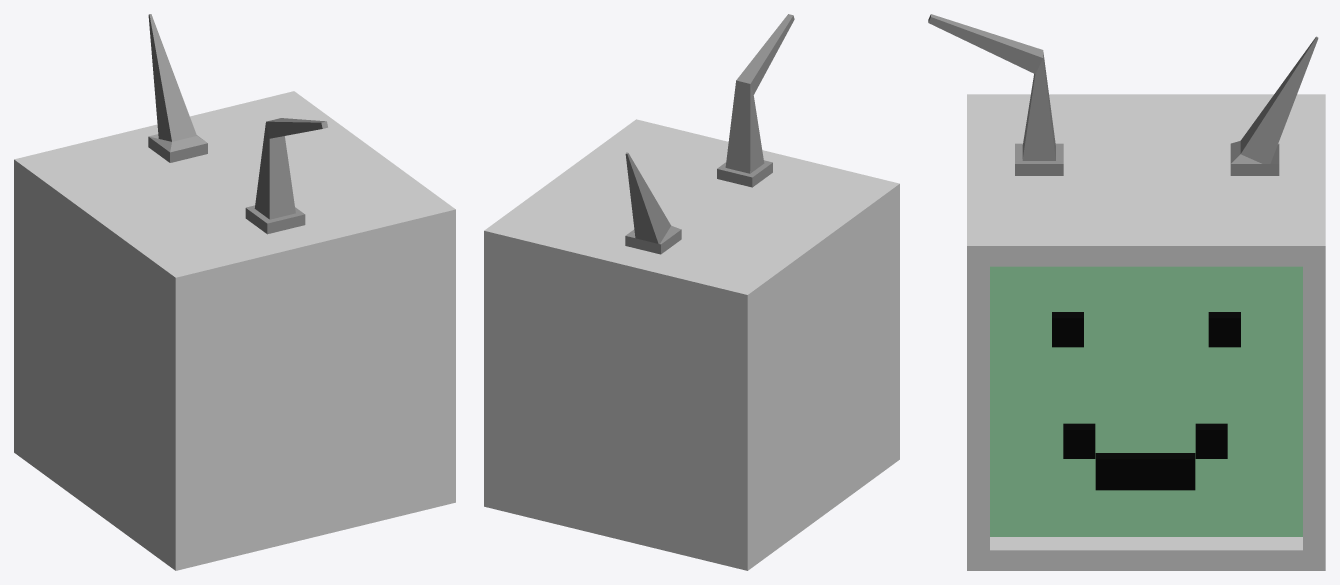
File: omega_colored.fbx
3 renders of one model, left to right at view 1: azimuth 30°, elevation 25°; view 2: azimuth 150°, elevation 25°; view 3: azimuth 270°, elevation 25°, orthographic. The views are drawn at different scales.
Parts seen in each view (by area): view 1: Cube, Cube.001, Cube.002; view 2: Cube, Cube.001, Cube.002; view 3: Cube, Cube.003, Cube.001, Cube.002.
Boxes of the visible parts, x1,y1,x2,y2 form: Cube: (14, 91, 455, 570); Cube.001: (245, 118, 327, 234); Cube.002: (148, 14, 207, 162); Cube: (484, 119, 899, 570); Cube.001: (717, 14, 794, 187); Cube.002: (625, 152, 681, 254); Cube: (967, 94, 1325, 570); Cube.003: (1052, 312, 1240, 490); Cube.001: (928, 14, 1063, 175); Cube.002: (1230, 36, 1318, 175).
Bounding box in the file's own units: 200 × 292 × 222.
